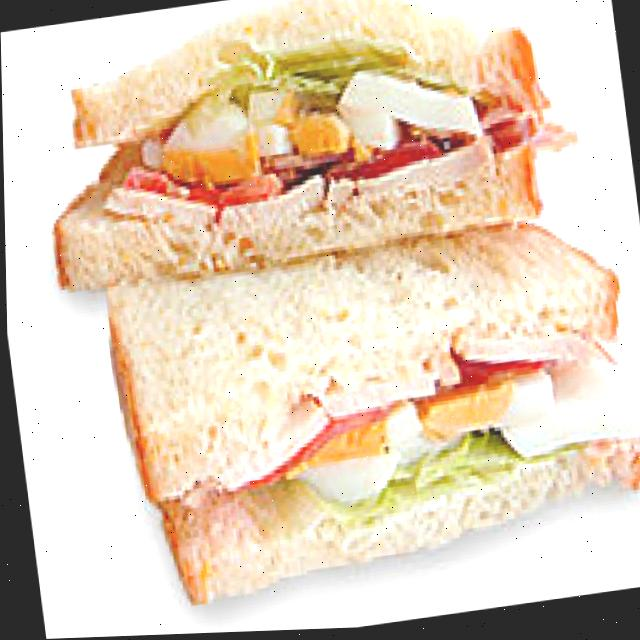三明治: (19, 0, 640, 620)
